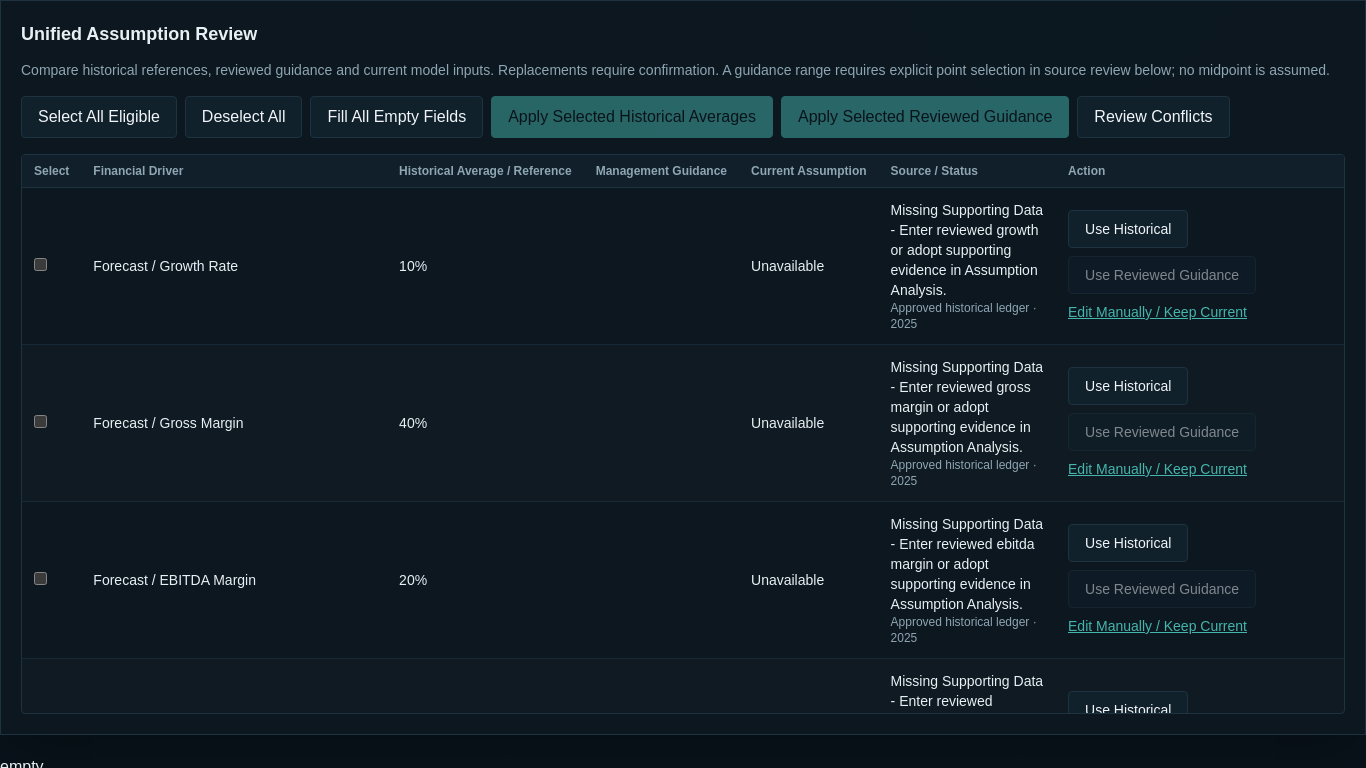
previews selected assumption replacement and applies it through the existing adoption engine
Click the checkbox named "Select forecast.growth": (40, 264) [34, 258, 47, 271]
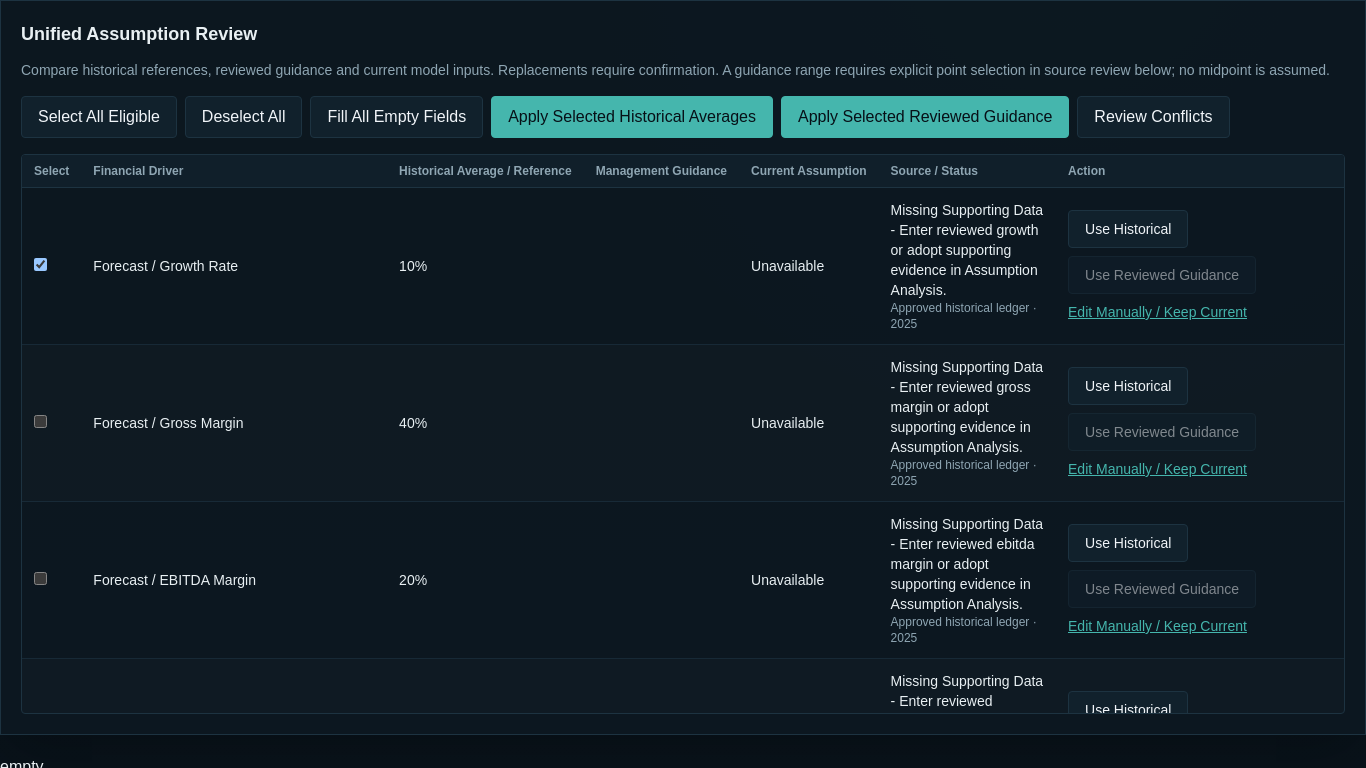
Click the button "Apply Selected Historical Averages": (632, 117) [491, 96, 773, 138]
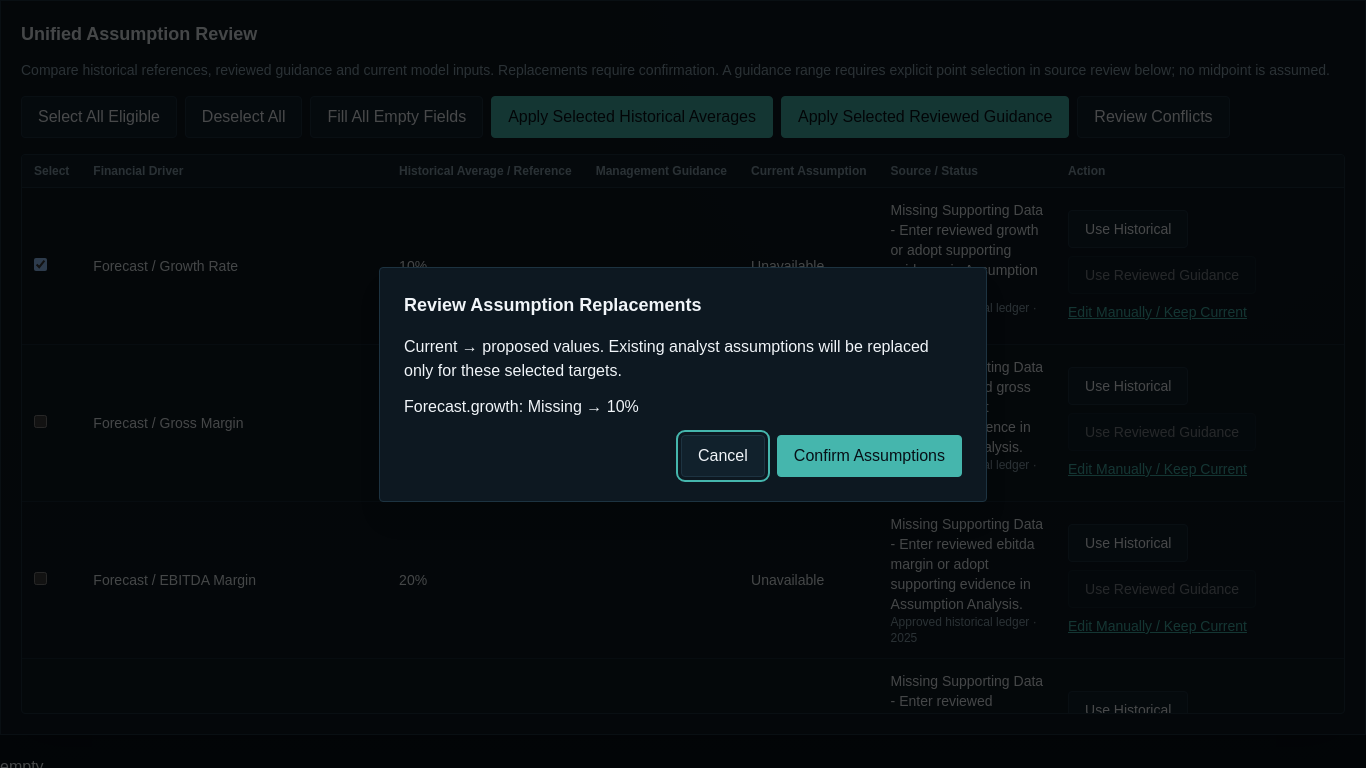
Expected: the dialog shows "Current → proposed values", [404, 338, 929, 378]
Click the button "Confirm Assumptions": (869, 456) [777, 434, 962, 476]
(page scrolled)
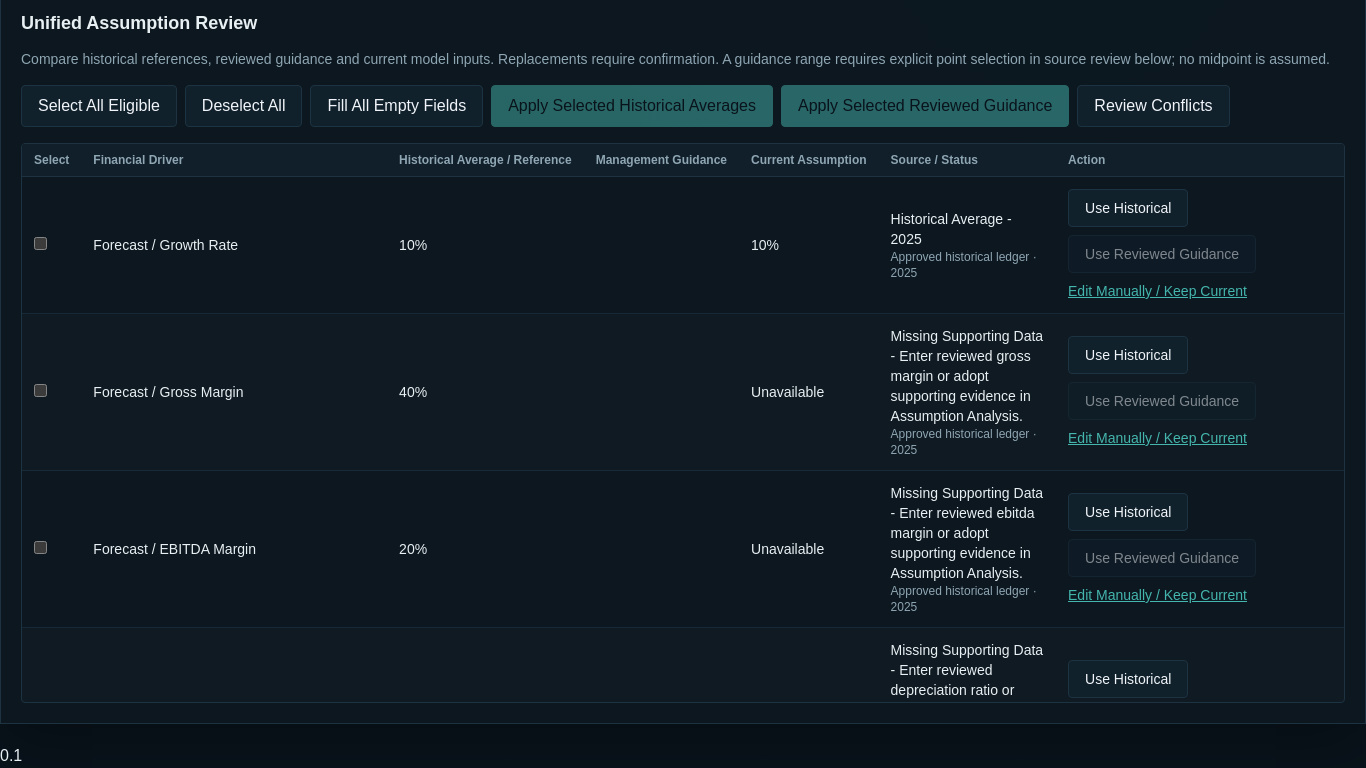
Expected: the text with test id "growth" reads "0.1", [0, 747, 22, 764]
